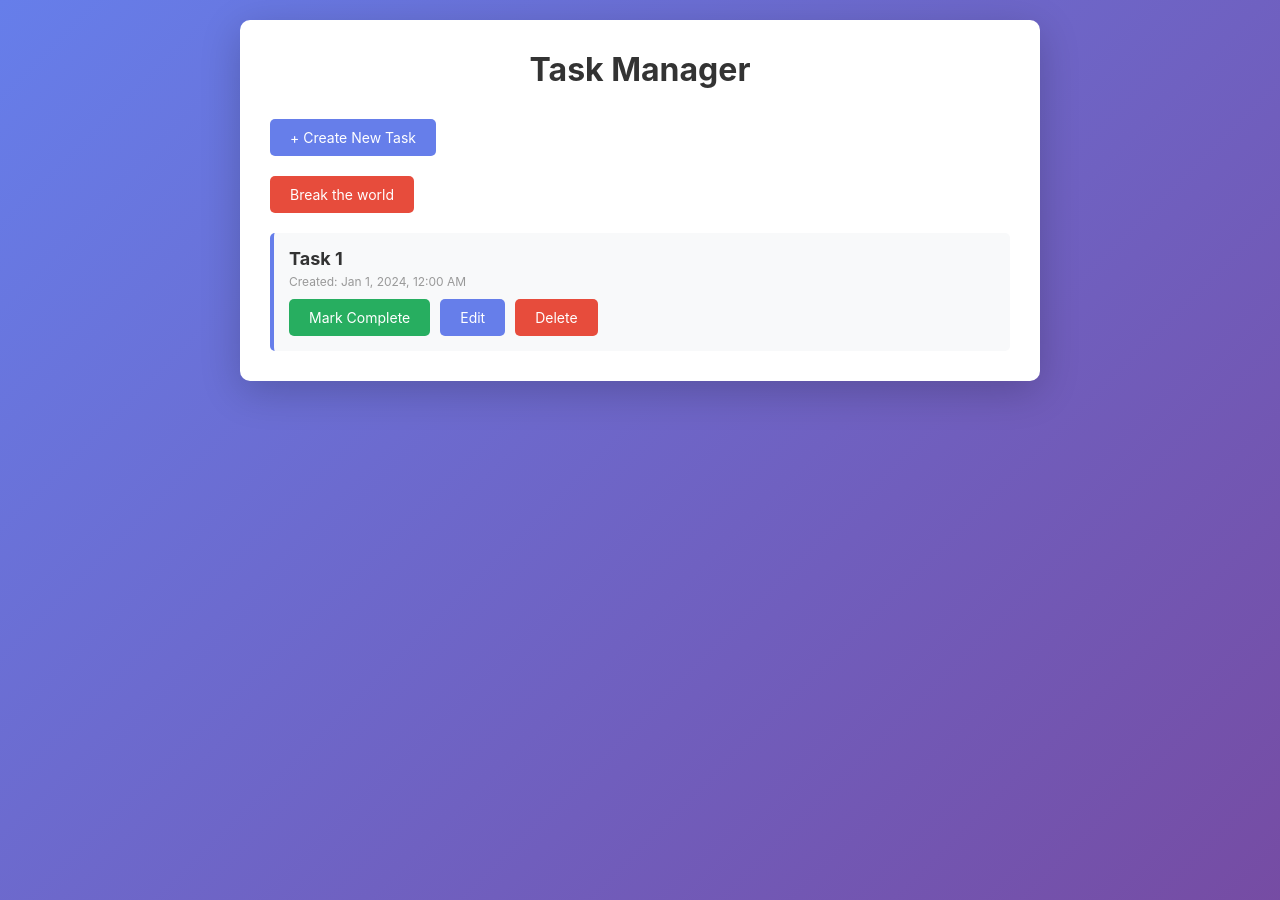
Scenario: App › Delete task › deletes a task successfully after confirmation
Expected: the text "Task 1" is shown, [289,248,343,269]
Click the button "Delete" at (556, 318), box [515,299,598,336]
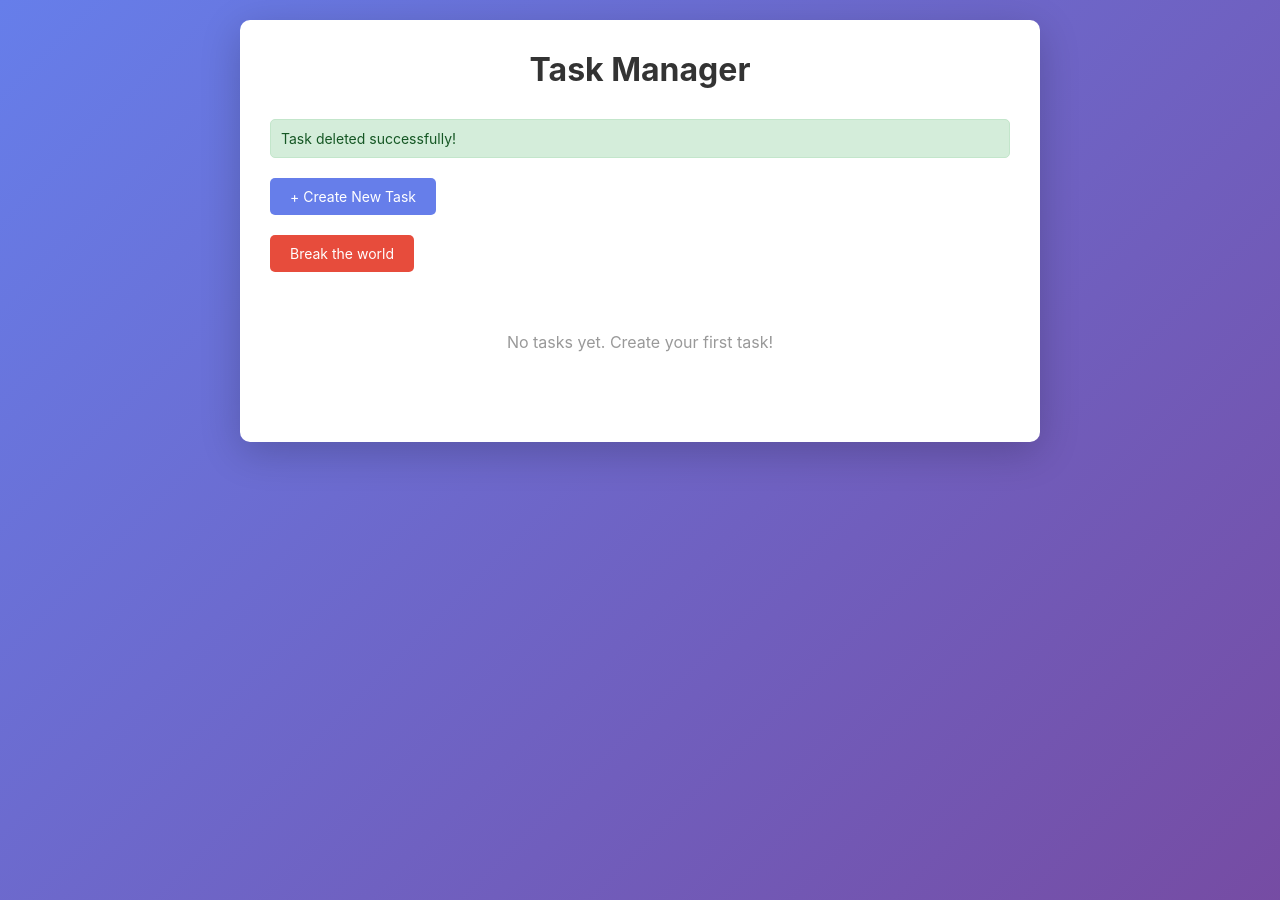
Now the text "Task deleted successfully!" is shown, box [270,119,1010,158]
